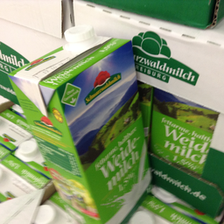milk: (7, 25, 151, 224)
